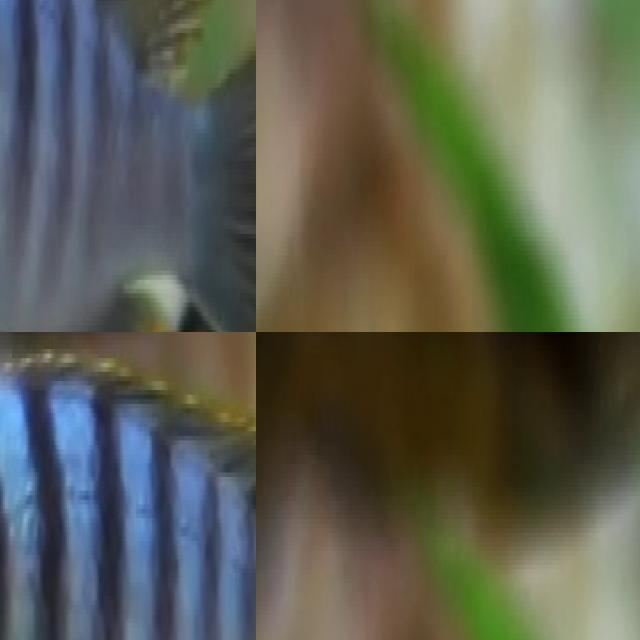fish: (256, 332, 640, 574), (0, 0, 256, 332)
